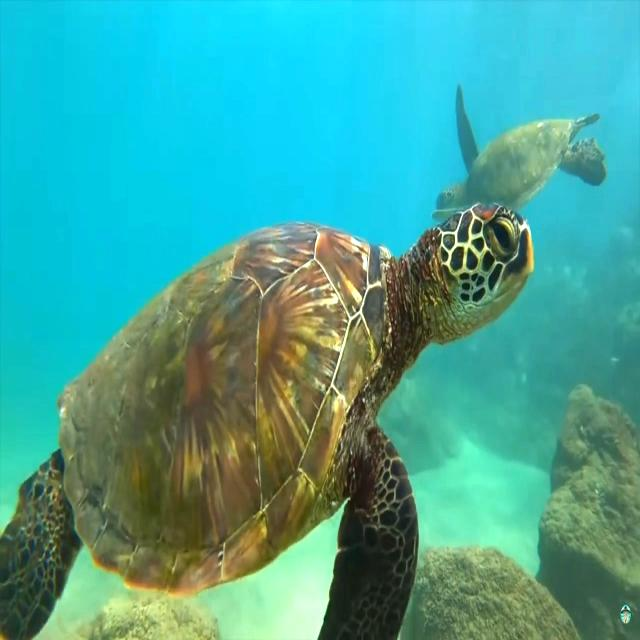Sea turtle: (0, 202, 535, 640), (434, 80, 608, 217)
